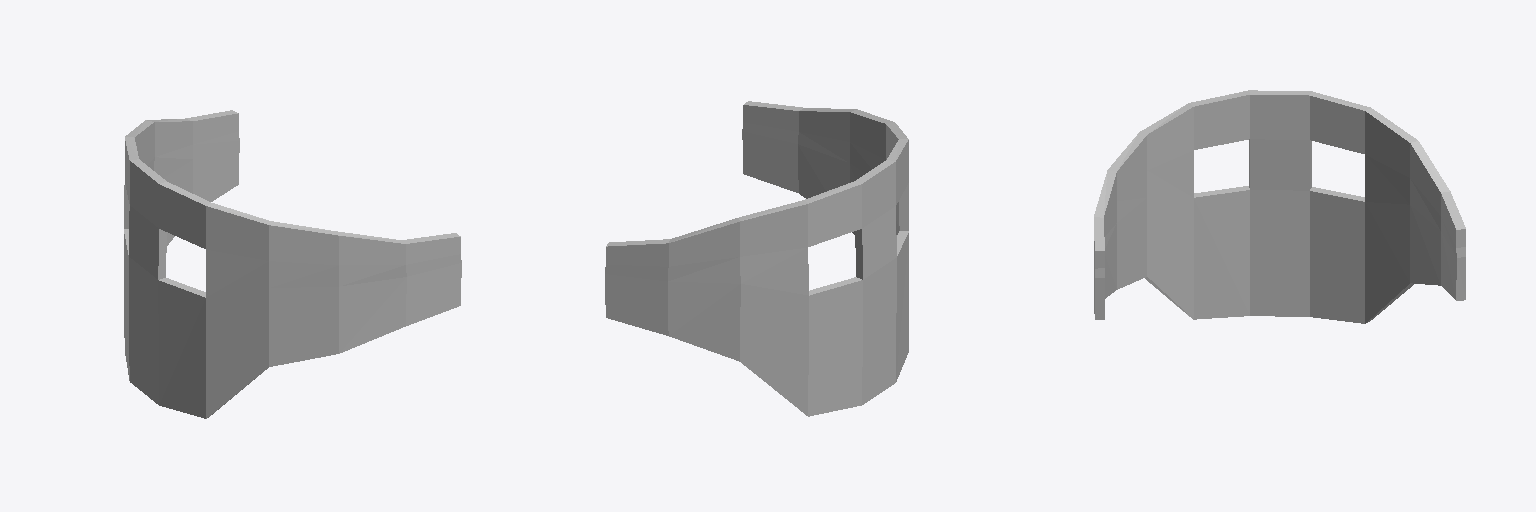
The model's file is visor.obj.
3 views of the same model, side by side, from view 1: azimuth 30°, elevation 25°; view 2: azimuth 150°, elevation 25°; view 3: azimuth 270°, elevation 25° (orthographic).
Parts seen in each view (by area): view 1: pCylinder2 group3; view 2: pCylinder2 group3; view 3: pCylinder2 group3.
Part boxes in pixels (x1,y1,x2,y2): pCylinder2 group3: (124, 110, 461, 418); pCylinder2 group3: (605, 101, 908, 416); pCylinder2 group3: (1094, 90, 1465, 323).
Size of the model in its own units: 0.2927 by 0.2735 by 0.4173.